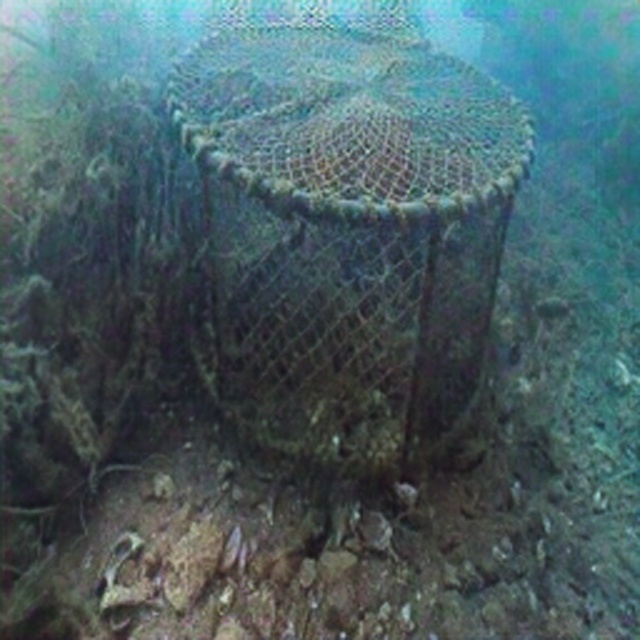mine: (161, 19, 534, 472)
